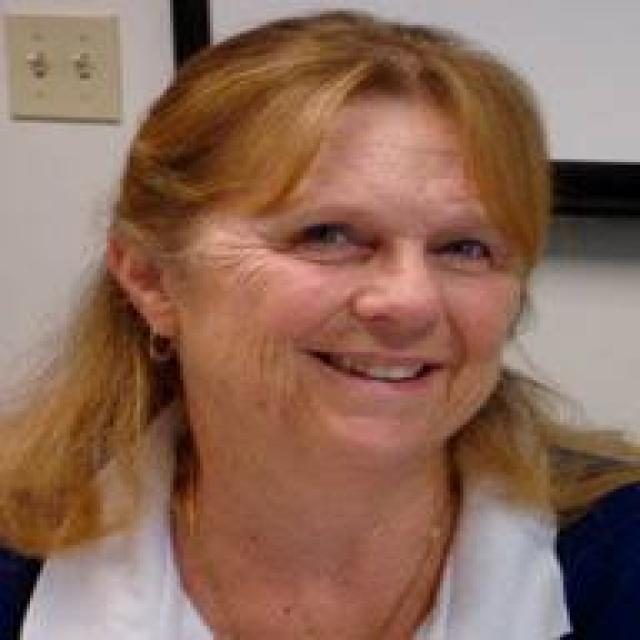normal_face: (125, 51, 571, 494)
